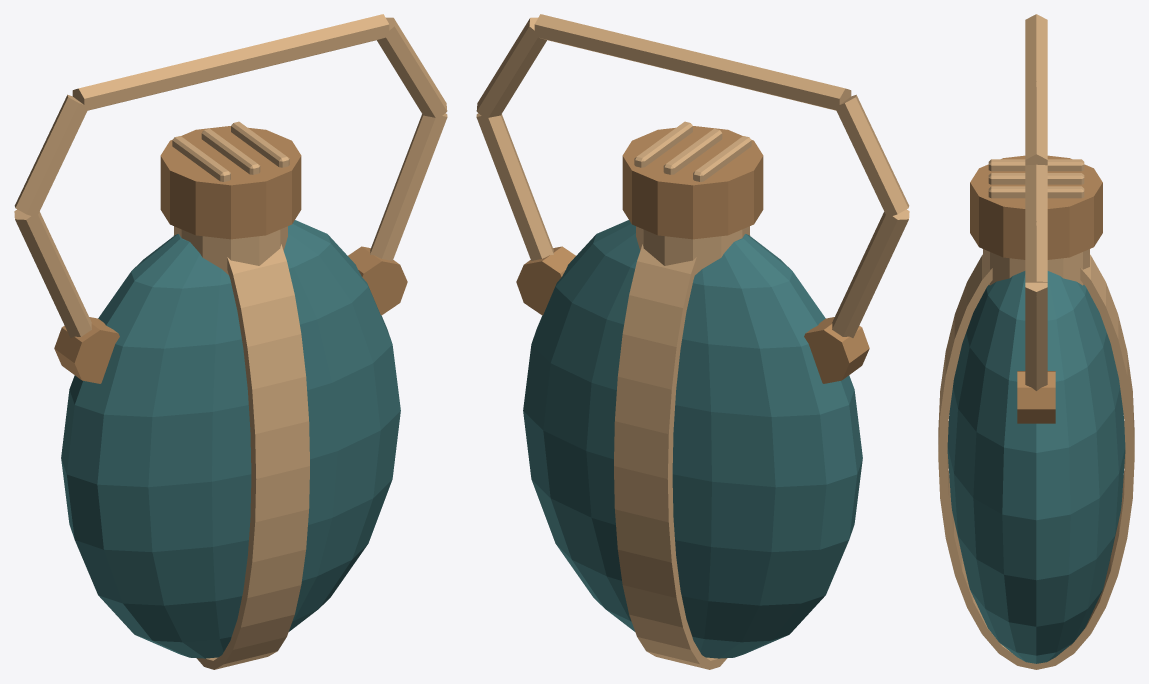
3 views of the same model, side by side, from view 1: azimuth 30°, elevation 25°; view 2: azimuth 150°, elevation 25°; view 3: azimuth 270°, elevation 25° (orthographic). The views are drawn at different scales.
Parts seen in each view (by area): view 1: camping-canteen-01; view 2: camping-canteen-01; view 3: camping-canteen-01.
Part boxes in pixels (<box>): camping-canteen-01: <box>14,14,447,669</box>; camping-canteen-01: <box>476,14,909,669</box>; camping-canteen-01: <box>938,14,1134,669</box>.
Bounding box in the file's own units: 0.3683 × 0.496 × 0.154.
